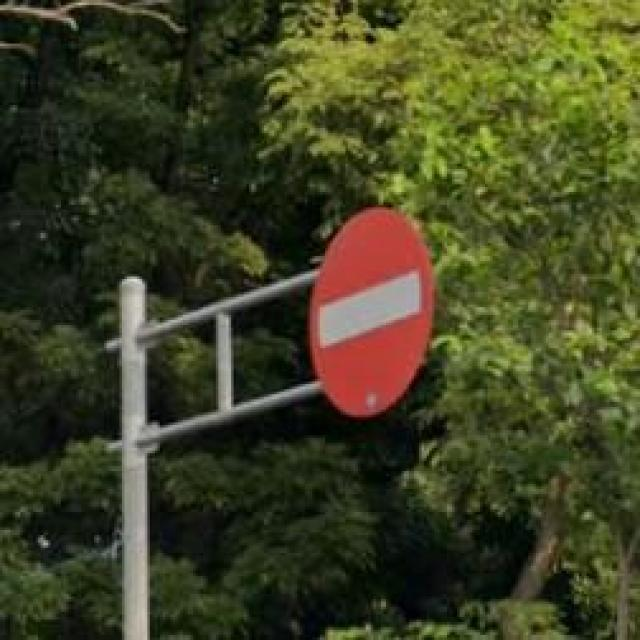traffic sign: (312, 210, 436, 415)
